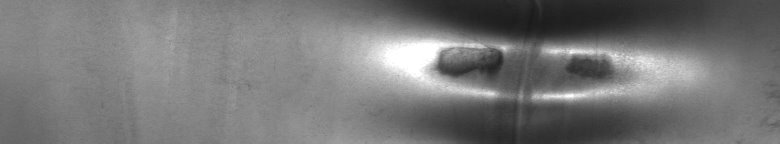ke: (402, 4, 668, 136)
